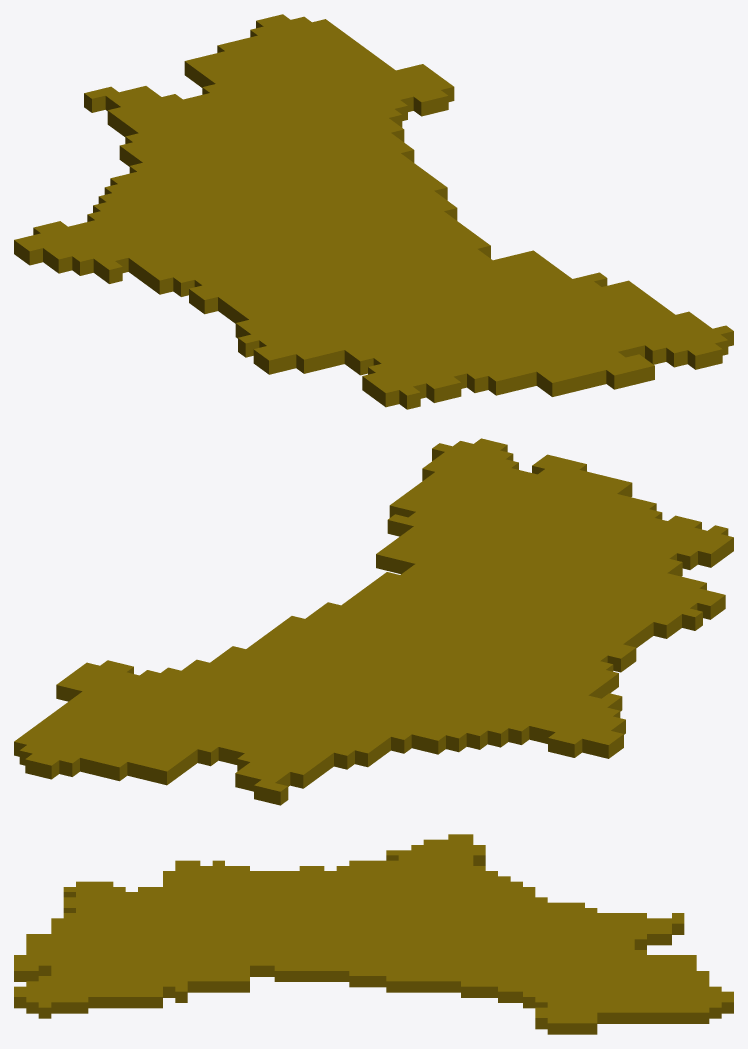
The model's file is Perak.fbx.
3 renders of one model, top to bottom at view 1: azimuth 30°, elevation 25°; view 2: azimuth 150°, elevation 25°; view 3: azimuth 270°, elevation 25°, orthographic. The views are drawn at different scales.
Visible parts, largest first — view 1: Perak; view 2: Perak; view 3: Perak.
Boxes of the visible parts, x1,y1,x2,y2 form: Perak: (14, 14, 733, 409); Perak: (14, 438, 733, 805); Perak: (14, 834, 733, 1034).
Size of the model in its own units: 36 by 1 by 58.
Materials: 1 (1 with a texture image).
